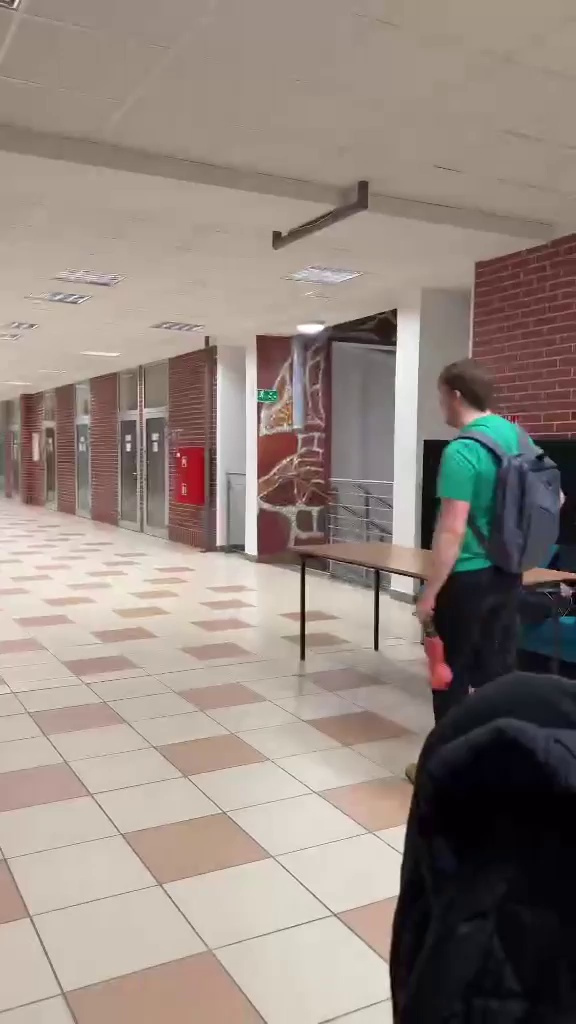no vest: (409, 353, 555, 723)
